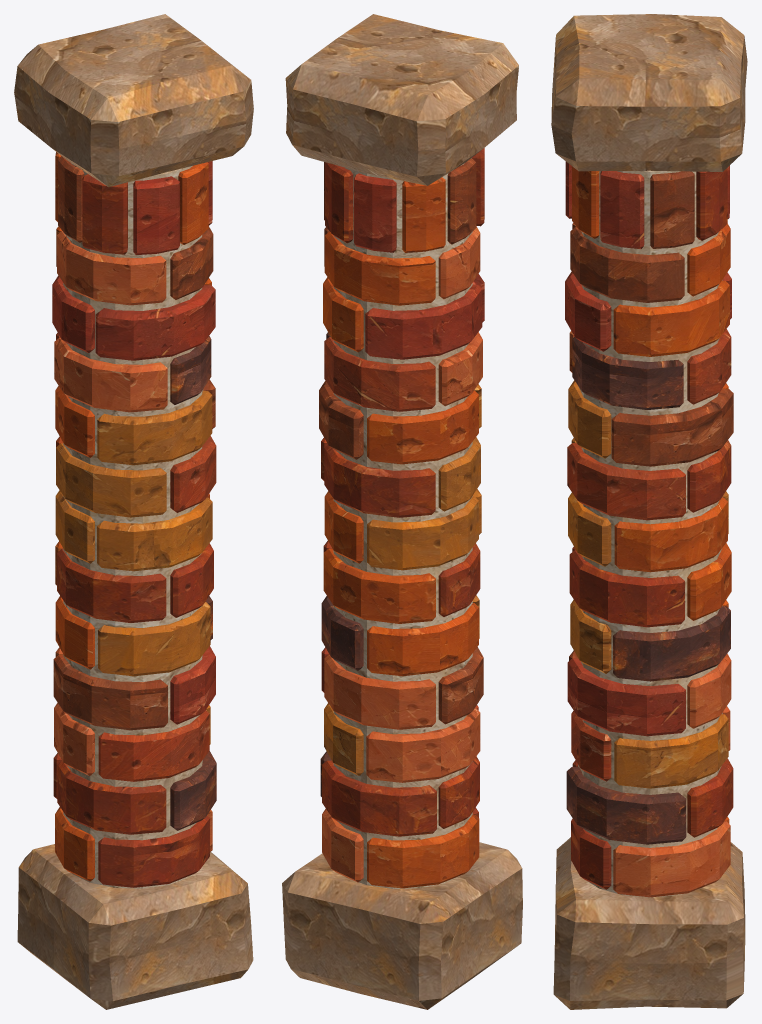
The model's file is pillar__clay_brick.glb.
3 views of the same model, side by side, from view 1: azimuth 30°, elevation 25°; view 2: azimuth 150°, elevation 25°; view 3: azimuth 270°, elevation 25° (orthographic). The views are drawn at different scales.
Parts seen in each view (by area): view 1: model; view 2: model; view 3: model.
Part boxes in pixels (x1,y1,x2,y2): model: [14, 14, 253, 1009]; model: [282, 14, 522, 1009]; model: [551, 14, 747, 1009].
Bounding box in the file's own units: 0.3813 × 1.98 × 0.3795.
10 materials, 10 textured.
